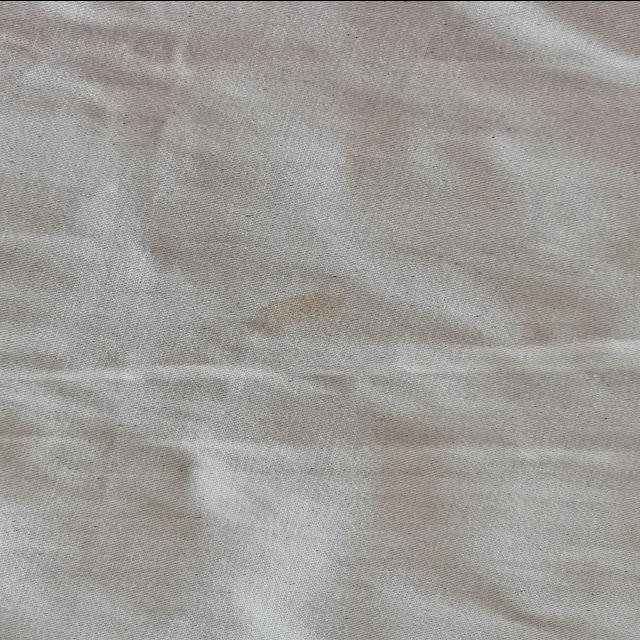taaaches: (240, 285, 364, 339)
